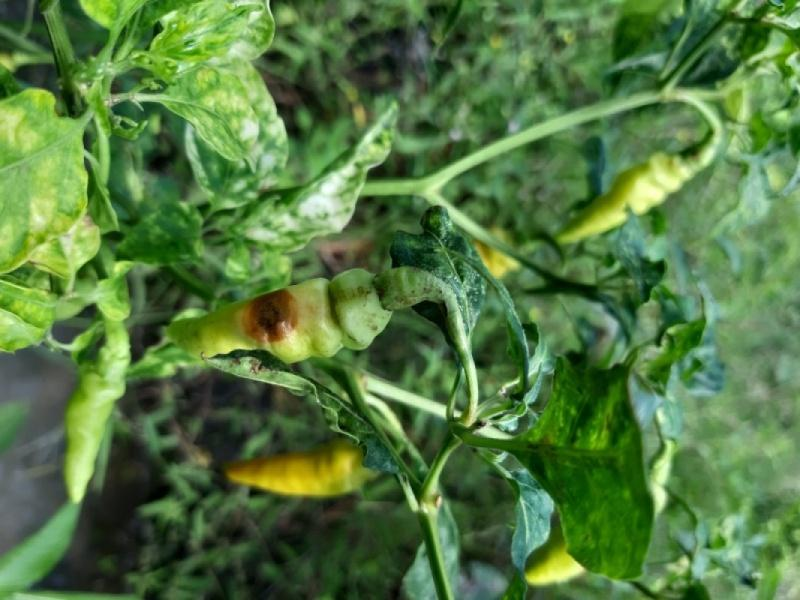antraknosa: (168, 267, 412, 366)
cabai_normal: (221, 434, 371, 498), (553, 162, 669, 242)
